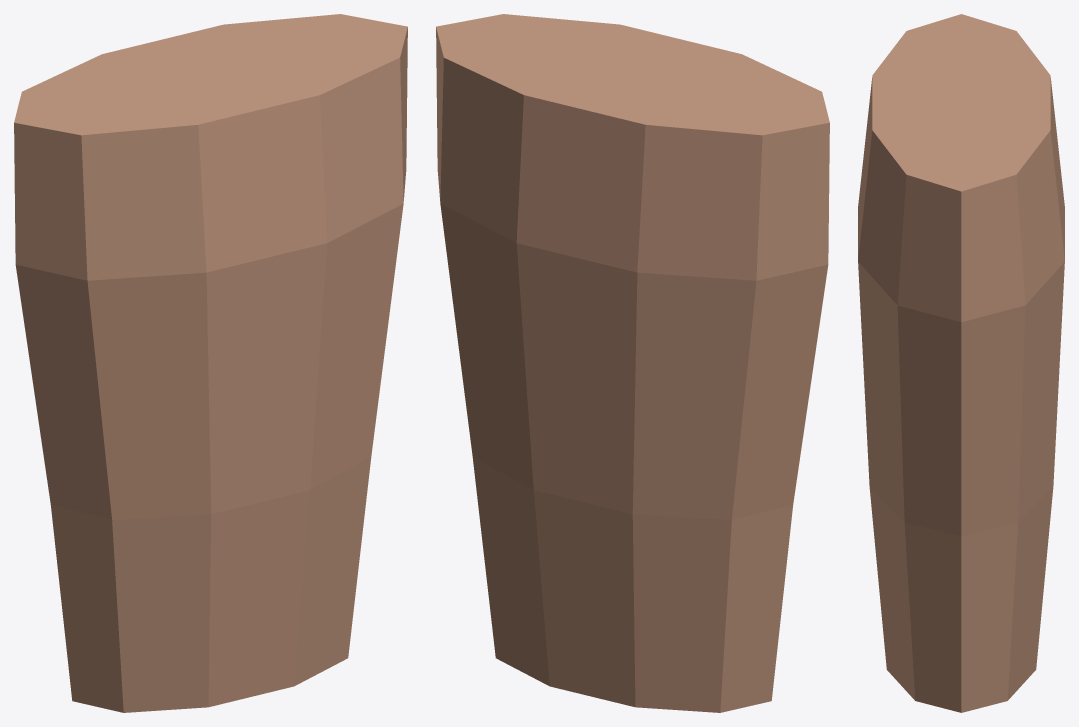
Rendered from wk_buck_heavy_torso_v01.glb.
3 renders of one model, left to right at view 1: azimuth 30°, elevation 25°; view 2: azimuth 150°, elevation 25°; view 3: azimuth 270°, elevation 25°, orthographic. The views are drawn at different scales.
Visible parts, largest first — view 1: GEO_Torso.002; view 2: GEO_Torso.002; view 3: GEO_Torso.002.
Part boxes in pixels (x1,y1,x2,y2): GEO_Torso.002: (14,14,407,712); GEO_Torso.002: (436,14,829,712); GEO_Torso.002: (858,14,1064,712).
Size of the model in its own units: 0.6956 by 1 by 0.3424.
